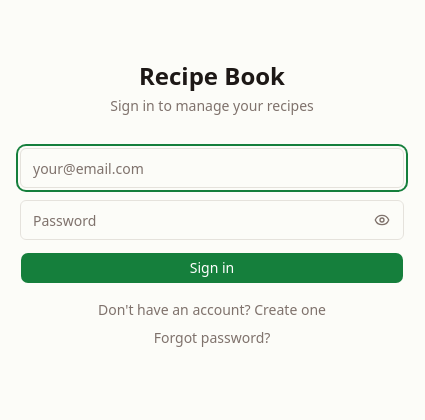
Test case: SignInPage — language picker on sign up › shows language picker only in sign-up mode
Click the button "Don't have an account? Create one" at (212, 310), box [98,300,326,320]
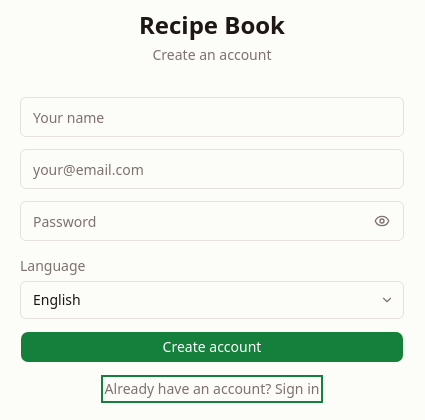
Result: the dropdown is shown at [20,281,404,319]
